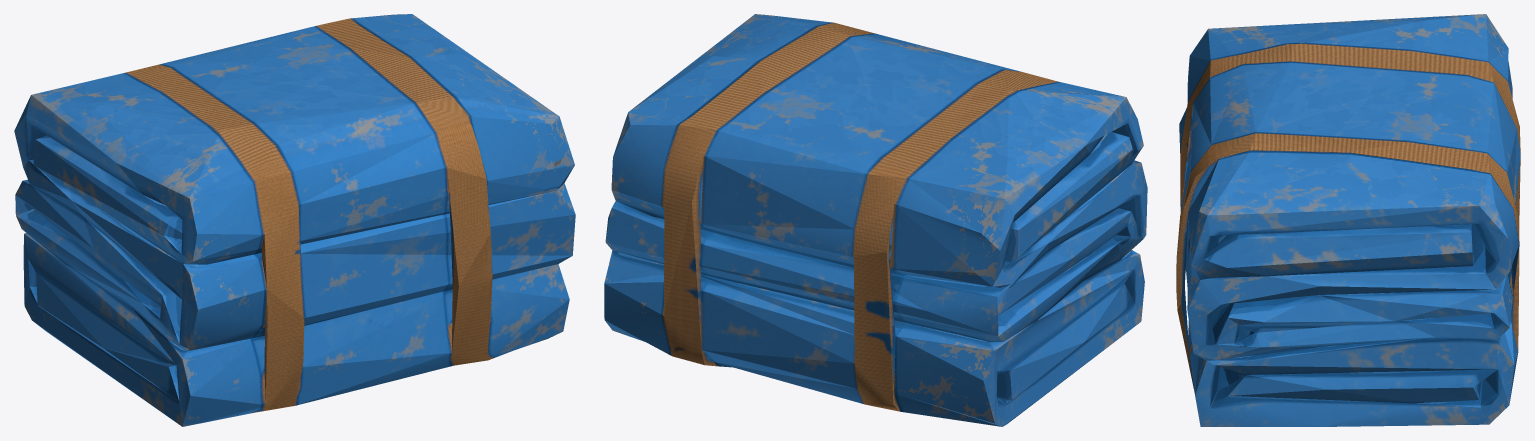
The model's file is tarpaulin_bundle_600tri.glb.
3 views of the same model, side by side, from view 1: azimuth 30°, elevation 25°; view 2: azimuth 150°, elevation 25°; view 3: azimuth 270°, elevation 25° (orthographic).
Parts seen in each view (by area): view 1: output_unwrapped; view 2: output_unwrapped; view 3: output_unwrapped.
Boxes of the visible parts, bbox=[...] form: output_unwrapped: bbox=[14, 14, 575, 426]; output_unwrapped: bbox=[604, 14, 1147, 426]; output_unwrapped: bbox=[1176, 14, 1520, 426].
Bounding box in the file's own units: 1.9 × 1.14 × 1.4.
Materials: 1 (1 with a texture image).
